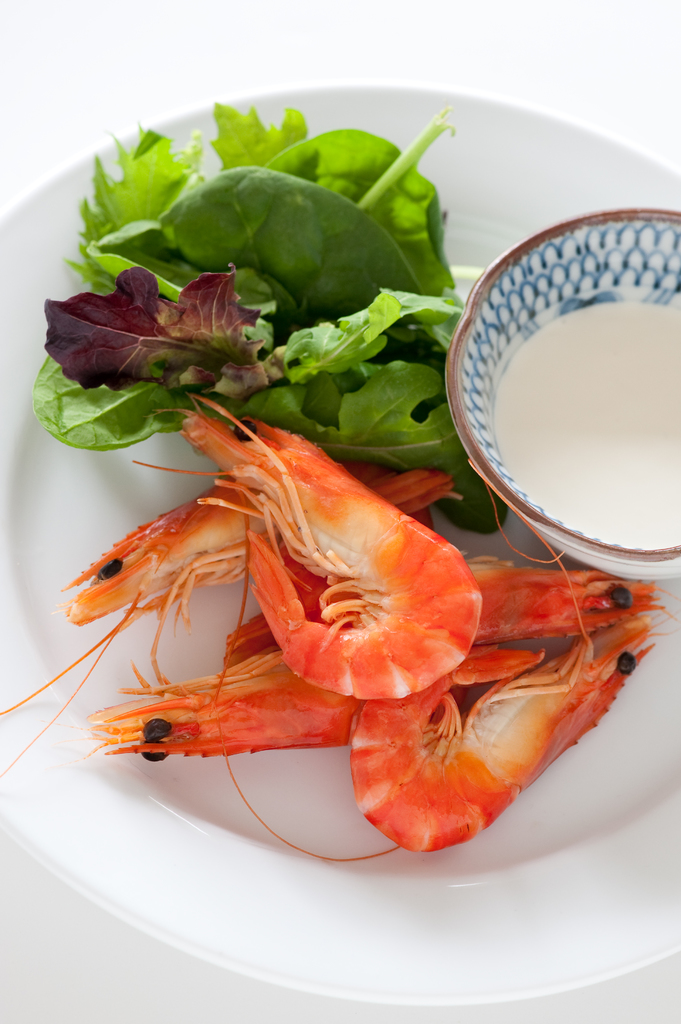plate: (0, 80, 680, 1006)
